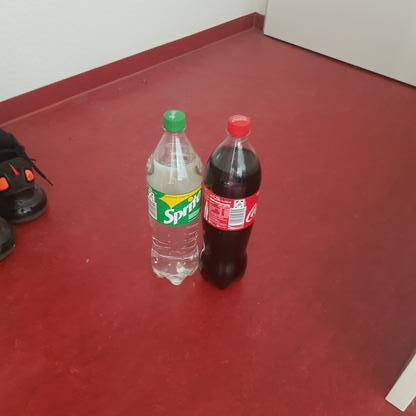coca-cola: (200, 112, 262, 291)
